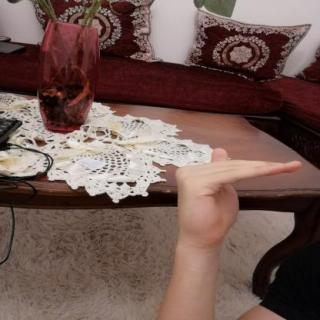KHAA: (166, 142, 310, 250)
